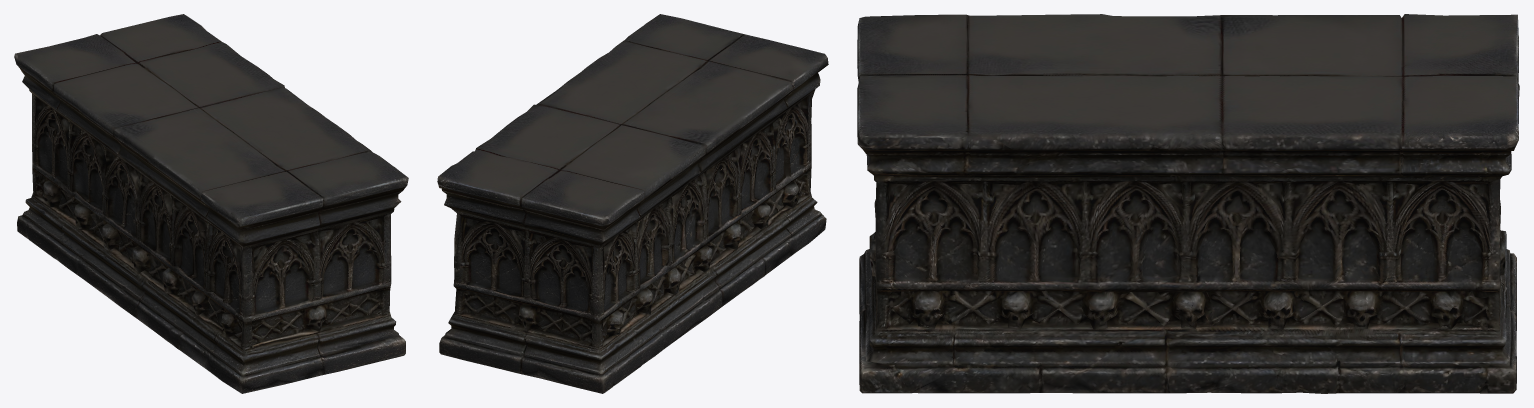
The model's file is raw_frieze.glb.
3 renders of one model, left to right at view 1: azimuth 30°, elevation 25°; view 2: azimuth 150°, elevation 25°; view 3: azimuth 270°, elevation 25°, orthographic. The views are drawn at different scales.
Parts seen in each view (by area): view 1: tripo_node_1925e54b-15a1-4bd6-ac4a-3857226fc1b2; view 2: tripo_node_1925e54b-15a1-4bd6-ac4a-3857226fc1b2; view 3: tripo_node_1925e54b-15a1-4bd6-ac4a-3857226fc1b2.
Part boxes in pixels (<box>): tripo_node_1925e54b-15a1-4bd6-ac4a-3857226fc1b2: <box>14,14,408,393</box>; tripo_node_1925e54b-15a1-4bd6-ac4a-3857226fc1b2: <box>437,14,828,393</box>; tripo_node_1925e54b-15a1-4bd6-ac4a-3857226fc1b2: <box>857,14,1519,393</box>.
Bounding box in the file's own units: 0.4407 × 0.4349 × 1.
1 material, 1 textured.
